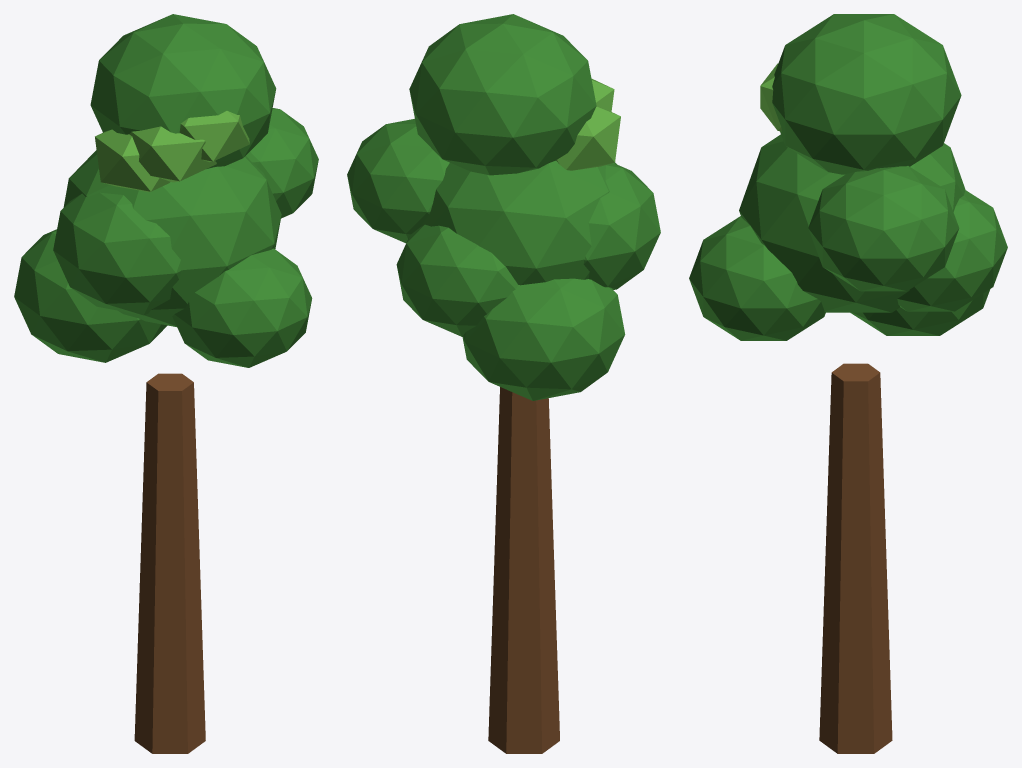
File: tree_2.glb
The picture shows the model from 3 angles, left to right: view 1: azimuth 30°, elevation 25°; view 2: azimuth 150°, elevation 25°; view 3: azimuth 270°, elevation 25°; orthographic projection. The views are drawn at different scales.
Visible parts, largest first — view 1: leaves1, trunk, leaves2; view 2: leaves1, trunk, leaves2; view 3: leaves1, trunk, leaves2.
Part boxes in pixels (x1,y1,x2,y2): leaves1: (14, 14, 318, 367); trunk: (134, 373, 205, 753); leaves2: (95, 111, 249, 192); leaves1: (347, 14, 660, 400); trunk: (488, 387, 559, 753); leaves2: (556, 78, 620, 170); leaves1: (689, 14, 1007, 340); trunk: (819, 363, 892, 753); leaves2: (760, 63, 781, 131).
Bounding box in the file's own units: 0.7762 × 1.98 × 0.7852.
